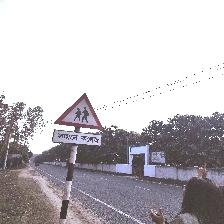College-in-front: (51, 89, 118, 160)
